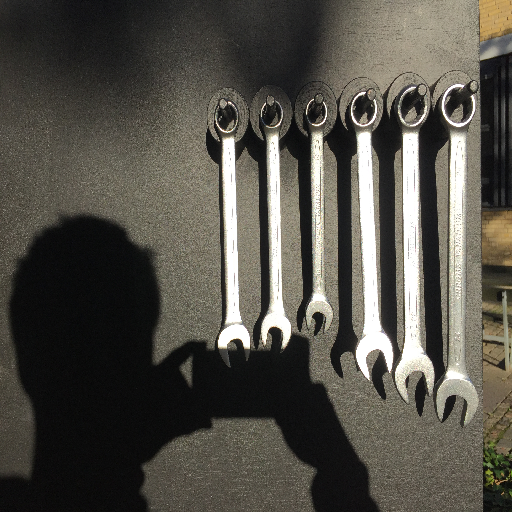bottom: (432, 366, 478, 428), (392, 348, 436, 406), (355, 330, 394, 378), (215, 321, 251, 368), (260, 310, 292, 352), (303, 296, 335, 332)
top: (437, 83, 476, 133), (394, 84, 429, 132), (347, 89, 379, 132), (213, 99, 241, 136), (258, 98, 286, 134), (304, 96, 329, 130)
